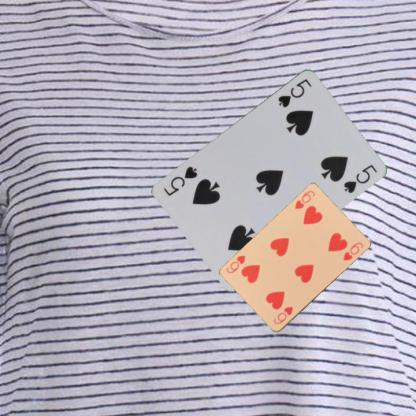5s: (275, 76, 313, 108)
6h: (292, 188, 316, 210), (271, 304, 294, 326)
